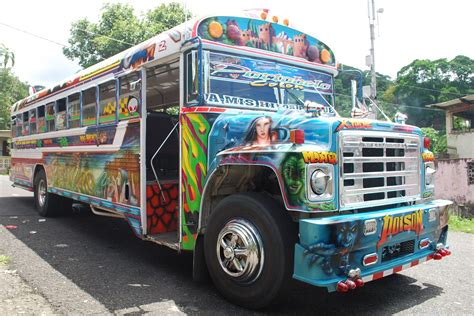bus: (11, 26, 441, 281)
